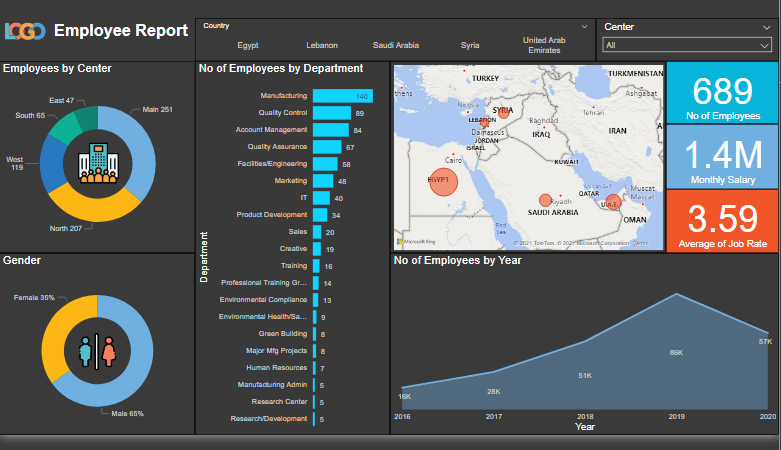

Layout of this report page (visuals, bound fields, positions):
{"tool":"powerbi","page":{"name":"Page 1","canvas":[1280,720],"ordinal":0},"visuals":[{"type":"clusteredBarChart","title":"No of Employees by Department","fields":{"Category":["EmpTable.Department"],"Y":["CountNonNull(EmpTable.No)"]},"box":[321.6,106.7,320,613.7],"z":0},{"type":"donutChart","title":"Employees by Center","fields":{"Category":["EmpTable.Center"],"Y":["CountNonNull(EmpTable.No)"]},"box":[0,106.7,321.6,315.1],"z":1000},{"type":"donutChart","title":"Gender","fields":{"Y":["CountNonNull(EmpTable.Gender)"],"Category":["EmpTable.Gender"]},"box":[0,422,321,298],"z":2000},{"type":"map","fields":{"Category":["EmpTable.Country"],"Size":["Sum(EmpTable.No)"]},"box":[641.6,106.7,452.9,315.1],"z":3000},{"type":"stackedAreaChart","title":"No of Employees by Year","fields":{"Y":["Sum(EmpTable.No)"],"Category":["EmpTable.Start Date.Variation.Date Hierarchy.Year","EmpTable.Start Date.Variation.Date Hierarchy.Quarter","EmpTable.Start Date.Variation.Date Hierarchy.Month","EmpTable.Start Date.Variation.Date Hierarchy.Day"]},"box":[642,422,638,298],"z":4000},{"type":"card","fields":{"Values":["CountNonNull(EmpTable.No)"]},"box":[1094.6,106.7,185.4,103.4],"z":5000},{"type":"card","fields":{"Values":["Sum(EmpTable.Monthly Salary)"]},"box":[1094.6,210.1,185.4,106.7],"z":6000},{"type":"card","fields":{"Values":["Avg(EmpTable.Job Rate)"]},"box":[1094.6,316.7,185.4,105],"z":7000},{"type":"slicer","fields":{"Values":["EmpTable.Country"]},"box":[321.6,36.1,658.1,70.6],"z":8000},{"type":"slicer","fields":{"Values":["EmpTable.Center"]},"box":[979.7,36.1,300.3,70.6],"z":9000},{"type":"textbox","box":[85.3,36.1,236.3,70.6],"z":10000},{"type":"image","box":[0,13.1,85.3,88.6],"z":11000},{"type":"image","box":[126.4,548.1,70.6,70.6],"z":12000},{"type":"image","box":[124.7,229.7,77.1,88.6],"z":13000}]}

Visuals, with their boxes in screenshot pixels (x1, y1, x2, y2), scaled from the page's 1280x720 canvas onto the 781x450 screenshot:
"No of Employees by Department" clusteredBarChart: [196, 67, 391, 449]
"Employees by Center" donutChart: [0, 67, 196, 264]
"Gender" donutChart: [0, 264, 196, 449]
map - EmpTable.Country x Sum(EmpTable.No): [391, 67, 668, 264]
"No of Employees by Year" stackedAreaChart: [392, 264, 780, 449]
card - CountNonNull(EmpTable.No): [668, 67, 780, 131]
card - Sum(EmpTable.Monthly Salary): [668, 131, 780, 198]
card - Avg(EmpTable.Job Rate): [668, 198, 780, 264]
slicer - EmpTable.Country: [196, 23, 598, 67]
slicer - EmpTable.Center: [598, 23, 780, 67]
textbox: [52, 23, 196, 67]
image: [0, 8, 52, 64]
image: [77, 343, 120, 387]
image: [76, 144, 123, 199]
